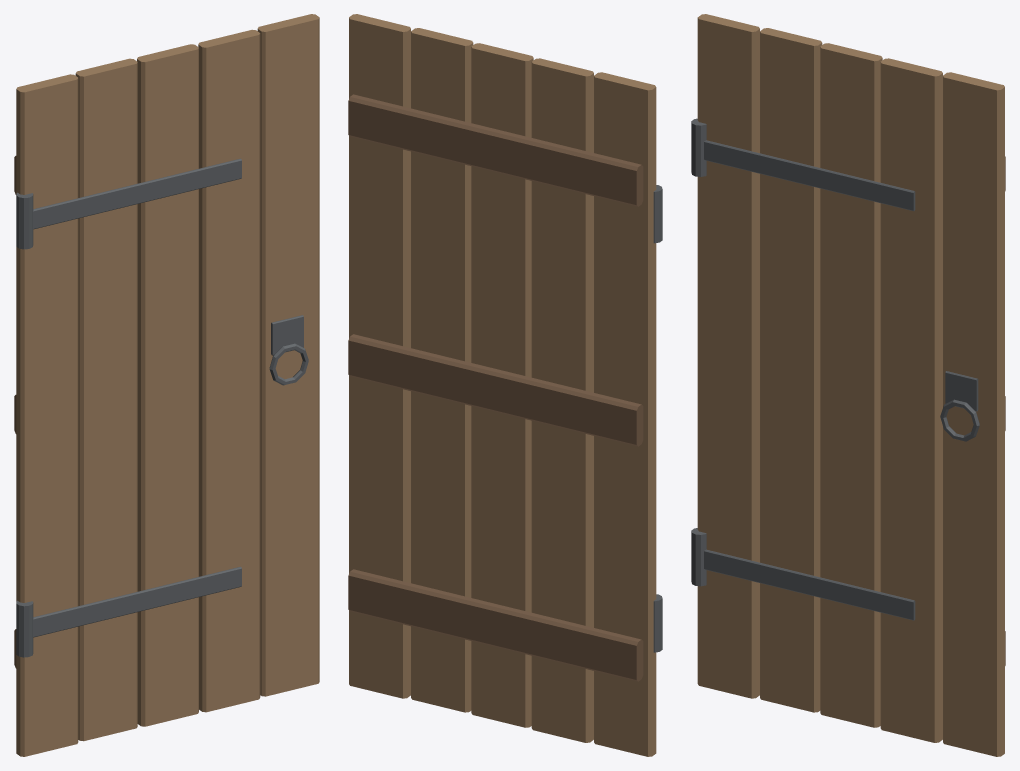
Rendered from door_leaf.glb.
The picture shows the model from 3 angles, left to right: view 1: azimuth 30°, elevation 25°; view 2: azimuth 150°, elevation 25°; view 3: azimuth 330°, elevation 25°; orthographic projection.
Visible parts, largest first — view 1: door_leaf; view 2: door_leaf; view 3: door_leaf.
Part boxes in pixels (box(x1,y1,x2,y2)): door_leaf: box(14, 14, 319, 756); door_leaf: box(348, 14, 662, 756); door_leaf: box(691, 14, 1005, 756).
Size of the model in its own units: 1.37 by 2.85 by 0.141.
